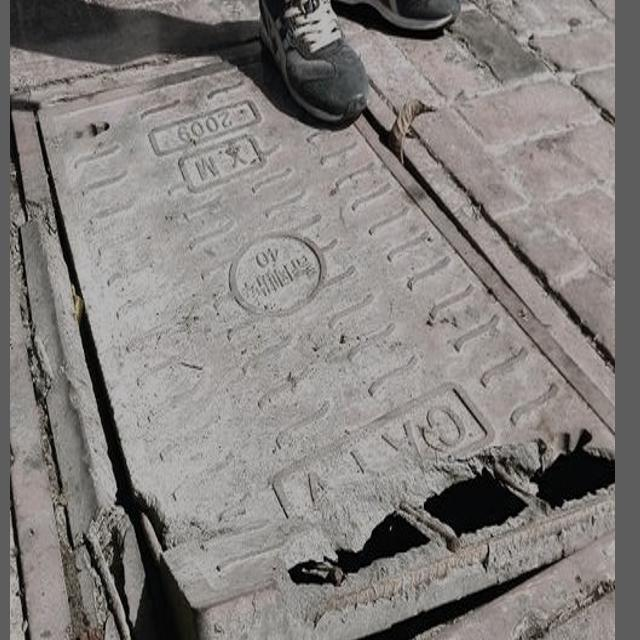broke: (31, 61, 615, 640)
